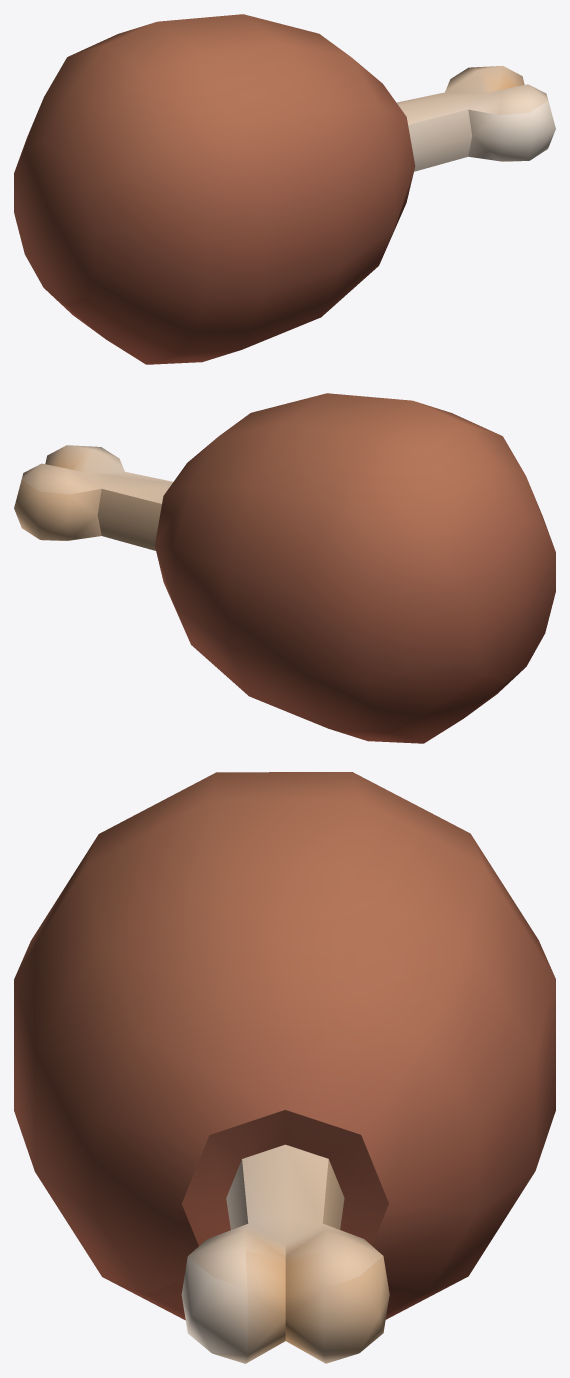
The model's file is food_ingredient_ham_cooked.obj.
3 views of the same model, one above another, from view 1: azimuth 30°, elevation 25°; view 2: azimuth 150°, elevation 25°; view 3: azimuth 270°, elevation 25° (orthographic). The views are drawn at different scales.
Visible parts, largest first — view 1: food_ingredient_ham_cooked_Cylinder.090; view 2: food_ingredient_ham_cooked_Cylinder.090; view 3: food_ingredient_ham_cooked_Cylinder.090.
Part boxes in pixels (<box>): food_ingredient_ham_cooked_Cylinder.090: <box>14,14,555,364</box>; food_ingredient_ham_cooked_Cylinder.090: <box>14,393,555,743</box>; food_ingredient_ham_cooked_Cylinder.090: <box>14,772,555,1363</box>.
Size of the model in its own units: 1.39 by 0.83 by 0.83.
Materials: 1 (1 with a texture image).
